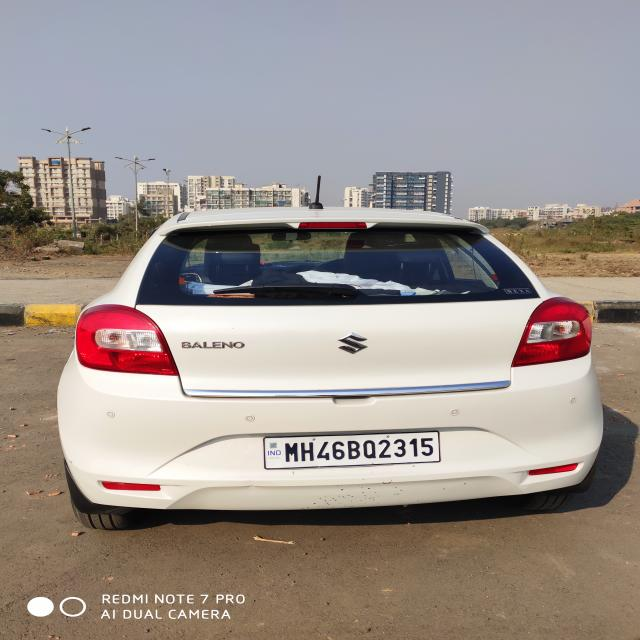Number-Plate: (266, 436, 443, 466)
